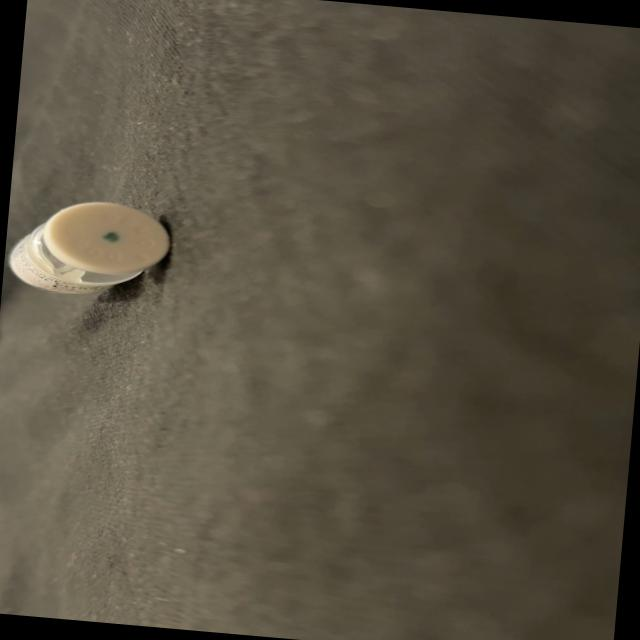fentanl_citrat: (8, 194, 172, 299)
